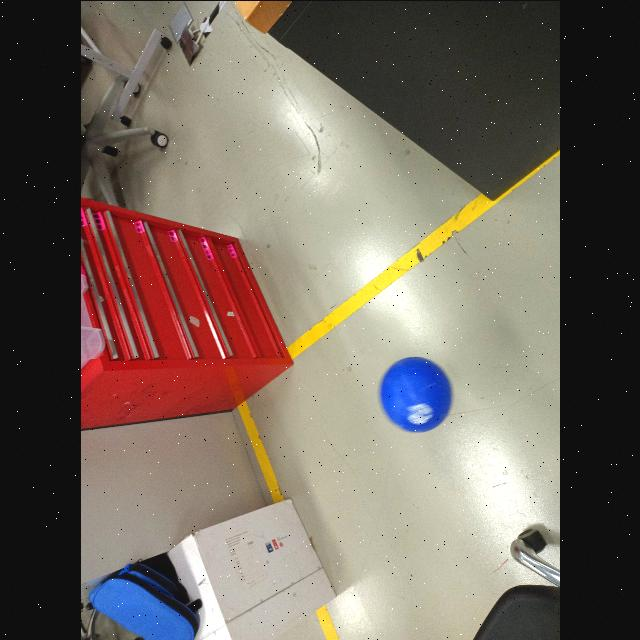B: (379, 354, 451, 432)
